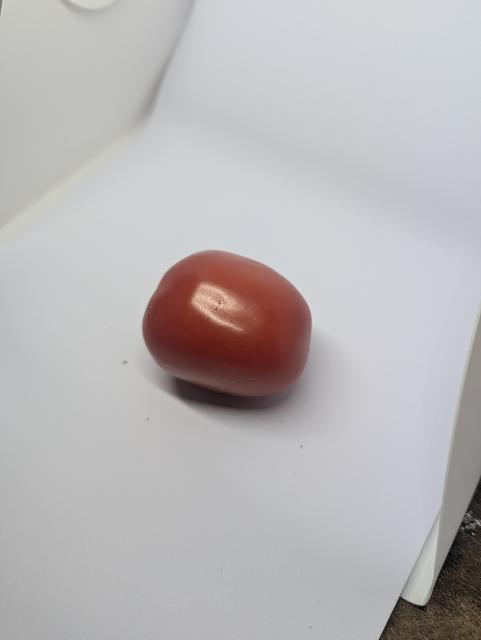red: (141, 246, 316, 403)
